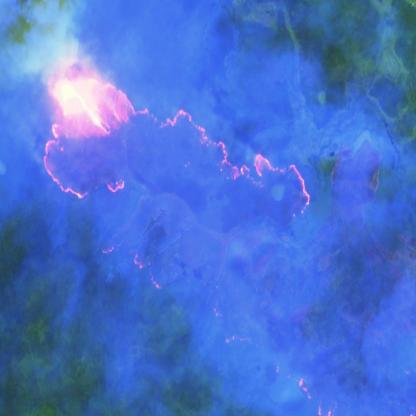fire: (40, 58, 313, 221)
